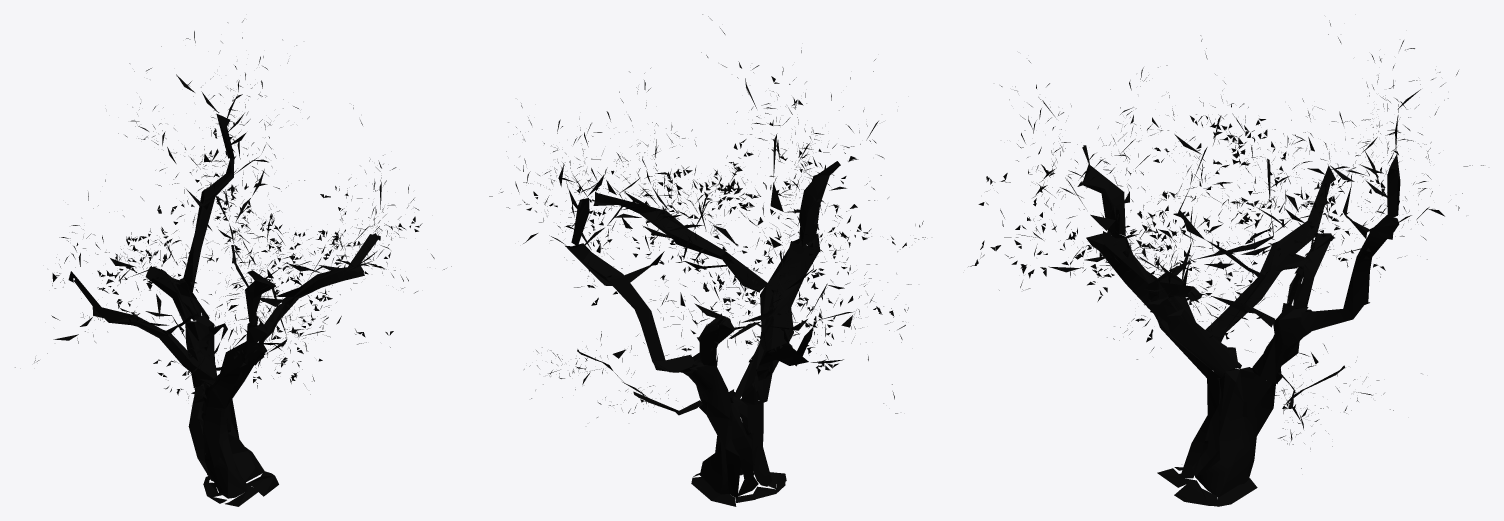
The model's file is Broad_Oak_A.glb.
The picture shows the model from 3 angles, left to right: view 1: azimuth 30°, elevation 25°; view 2: azimuth 150°, elevation 25°; view 3: azimuth 270°, elevation 25°; orthographic projection. The views are drawn at different scales.
Parts seen in each view (by area): view 1: tree; view 2: tree; view 3: tree.
Part boxes in pixels (<box>): tree: <box>15,20,451,506</box>; tree: <box>489,14,925,506</box>; tree: <box>968,20,1483,506</box>.
Size of the model in its own units: 4.61 by 4.89 by 4.67.
Materials: 1 (1 with a texture image).
